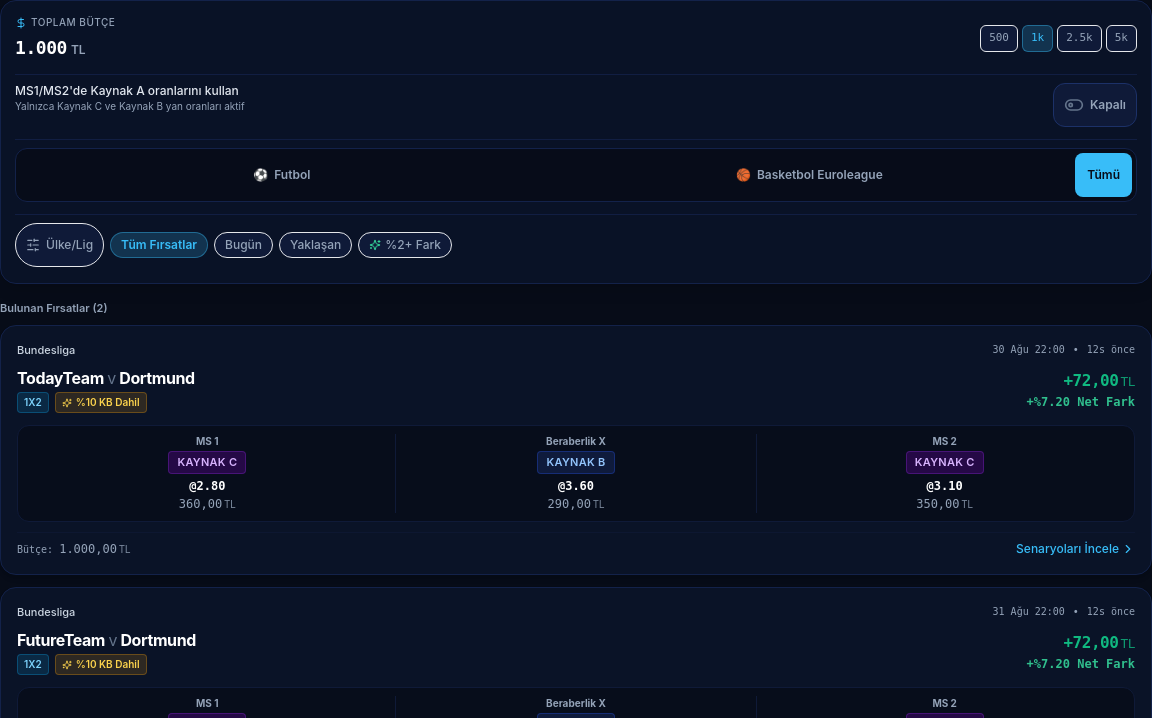
Test: OpportunitiesPage existing quick filters › shows only dates after Istanbul today in the Upcoming filter
Expected: the heading "TodayTeam v Dortmund" is shown, [17,368,195,388]
Click the button "Yaklaşan".
click(316, 245)  # box [279,232,352,258]
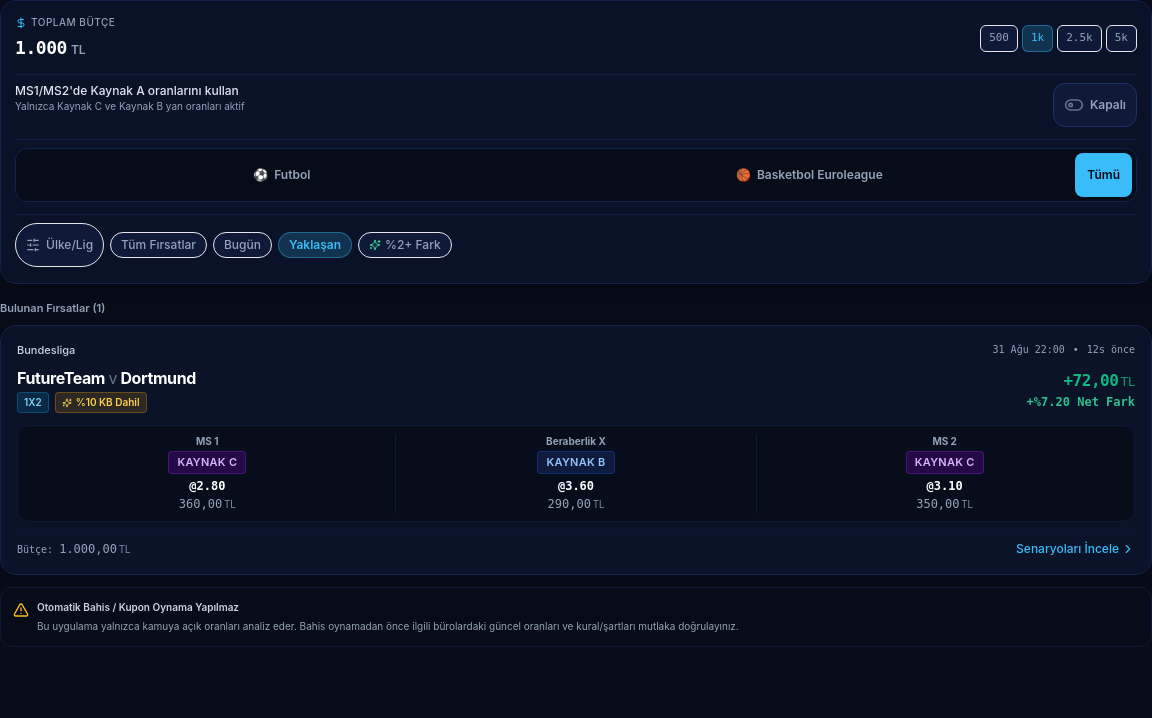
Expected: the heading "FutureTeam v Dortmund" is shown, [17,368,196,388]
Result: the heading "TodayTeam" is gone
